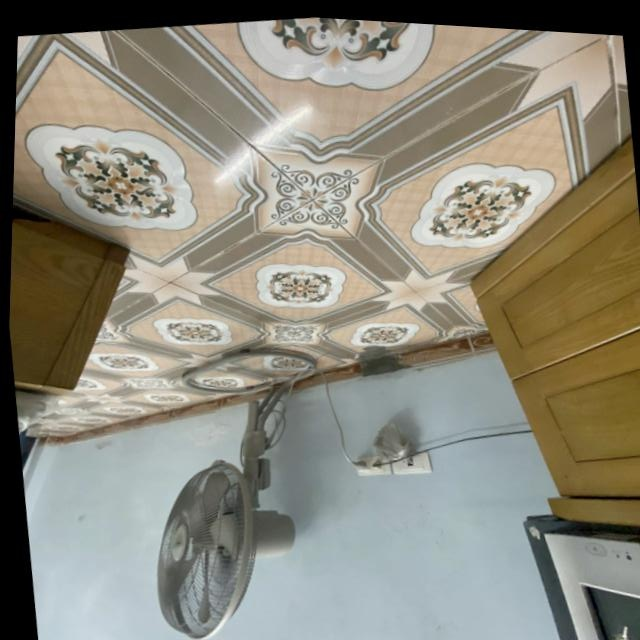outlet: (389, 449, 432, 478), (353, 454, 391, 480)
